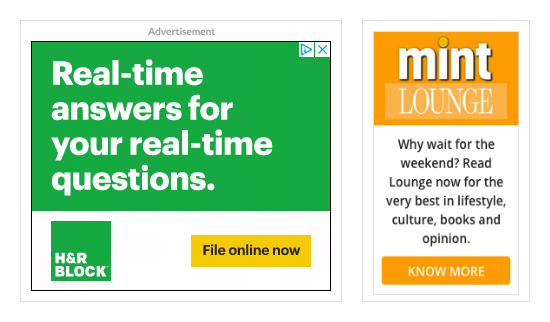fake_button: (185, 231, 318, 274), (381, 253, 513, 290)
